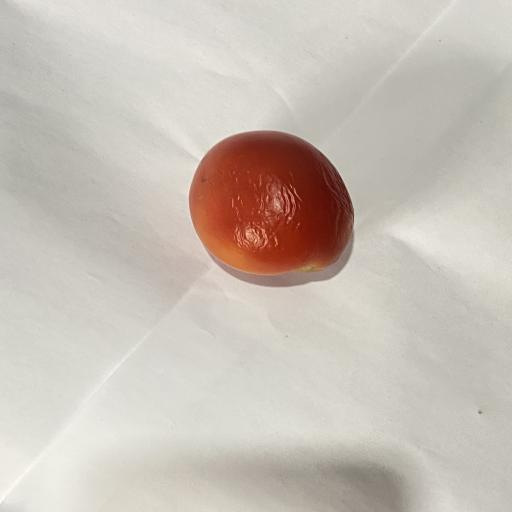spoiled: (189, 131, 354, 275)
